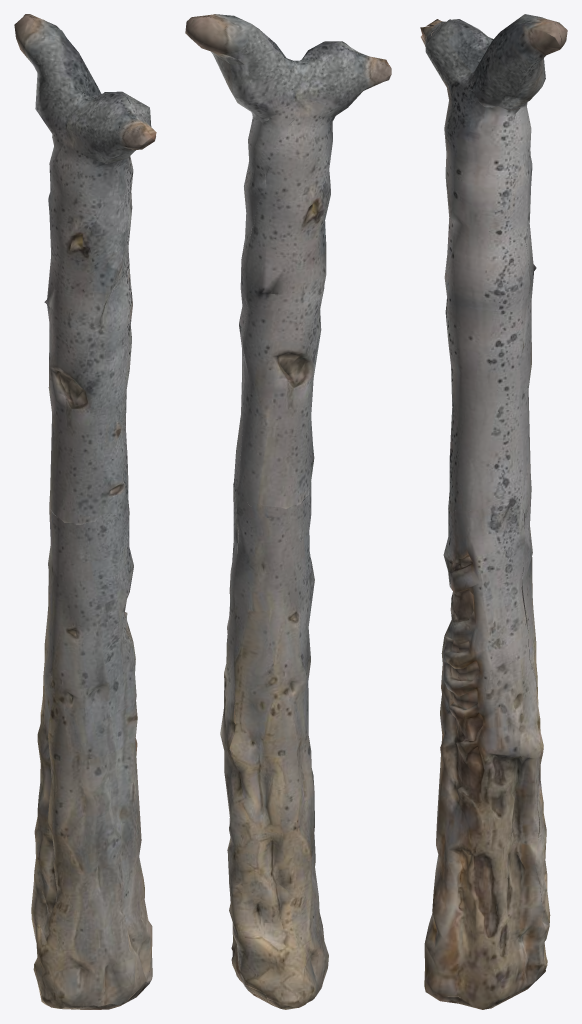
The model's file is dead_quiver_trunk.gltf.
3 renders of one model, left to right at view 1: azimuth 90°, elevation 25°; view 2: azimuth 150°, elevation 25°; view 3: azimuth 270°, elevation 25°, orthographic. The views are drawn at different scales.
Visible parts, largest first — view 1: dead_quiver_trunk_LOD0; view 2: dead_quiver_trunk_LOD0; view 3: dead_quiver_trunk_LOD0.
Part boxes in pixels (box(x1,y1,x2,y2)): dead_quiver_trunk_LOD0: box(14, 14, 156, 1009); dead_quiver_trunk_LOD0: box(185, 14, 391, 1009); dead_quiver_trunk_LOD0: box(420, 14, 567, 1009).
Bounding box in the file's own units: 0.3069 × 1.99 × 0.2672.
Materials: 1 (1 with a texture image).
